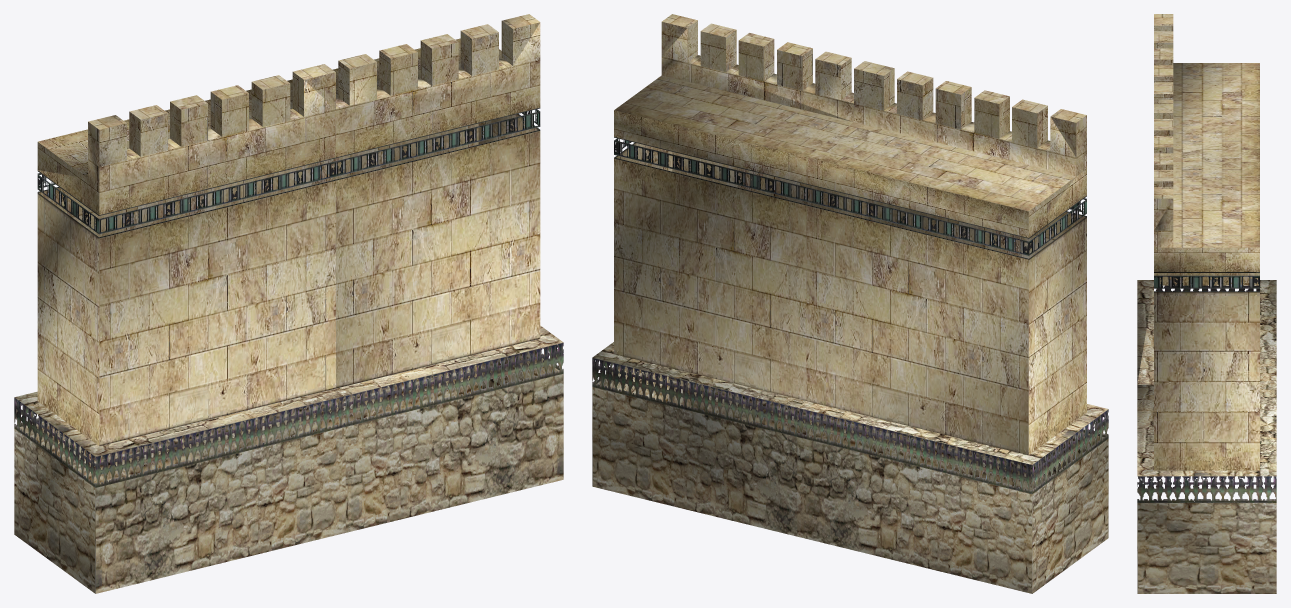
File: kart_wall_medium.dae
3 renders of one model, left to right at view 1: azimuth 30°, elevation 25°; view 2: azimuth 150°, elevation 25°; view 3: azimuth 270°, elevation 25°, orthographic. The views are drawn at different scales.
Visible parts, largest first — view 1: Box04; view 2: Box04; view 3: Box04.
Part boxes in pixels (x1,y1,x2,y2): Box04: [14, 14, 563, 593]; Box04: [592, 14, 1108, 593]; Box04: [1137, 14, 1276, 593].
Bounding box in the file's own units: 17.31 × 5.2 × 16.03.
